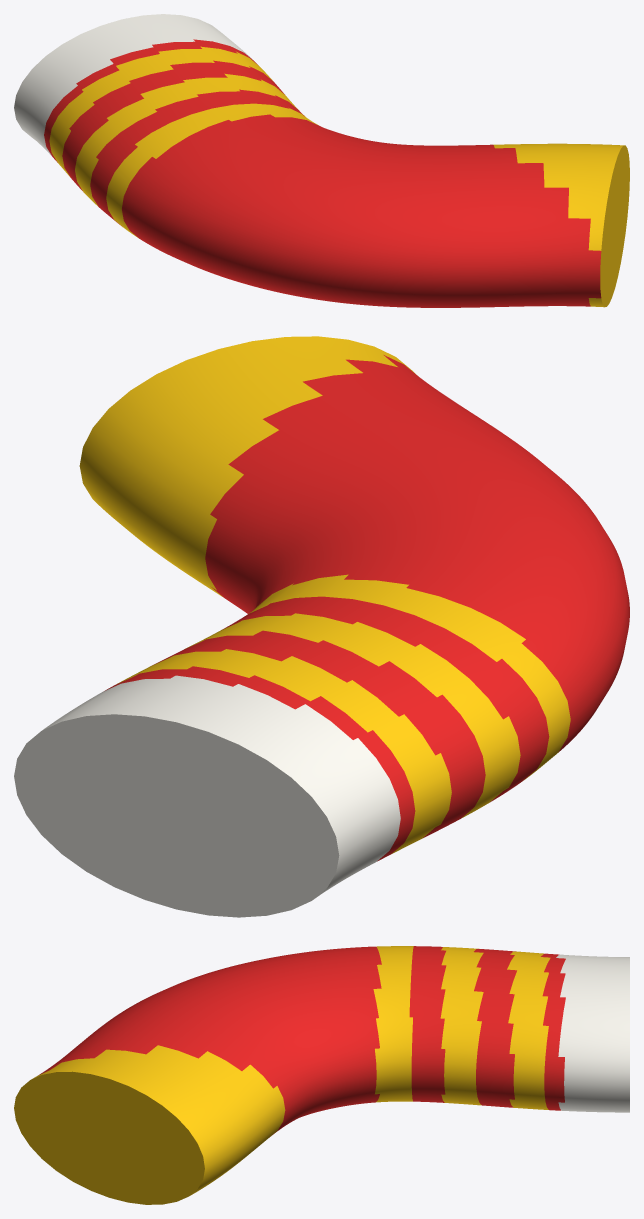
The model's file is sock.glb.
3 views of the same model, one above another, from view 1: azimuth 30°, elevation 25°; view 2: azimuth 150°, elevation 25°; view 3: azimuth 270°, elevation 25° (orthographic). The views are drawn at different scales.
Parts seen in each view (by area): view 1: sock; view 2: sock; view 3: sock.
Part boxes in pixels (x1=…): sock: x1=14, y1=14, x2=629, y2=307; sock: x1=14, y1=336, x2=629, y2=917; sock: x1=14, y1=946, x2=629, y2=1204.
Bounding box in the file's own units: 3.02 × 0.858 × 4.02.
